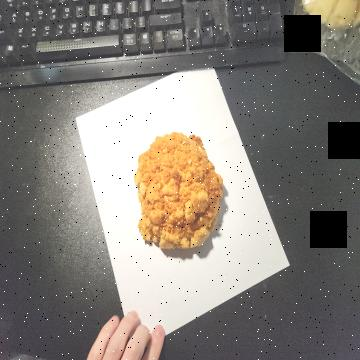soboru_bread: (132, 131, 224, 254)
